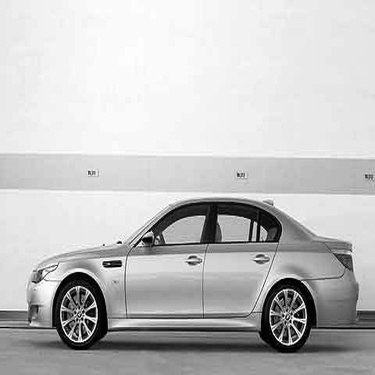car: (23, 192, 369, 359)
